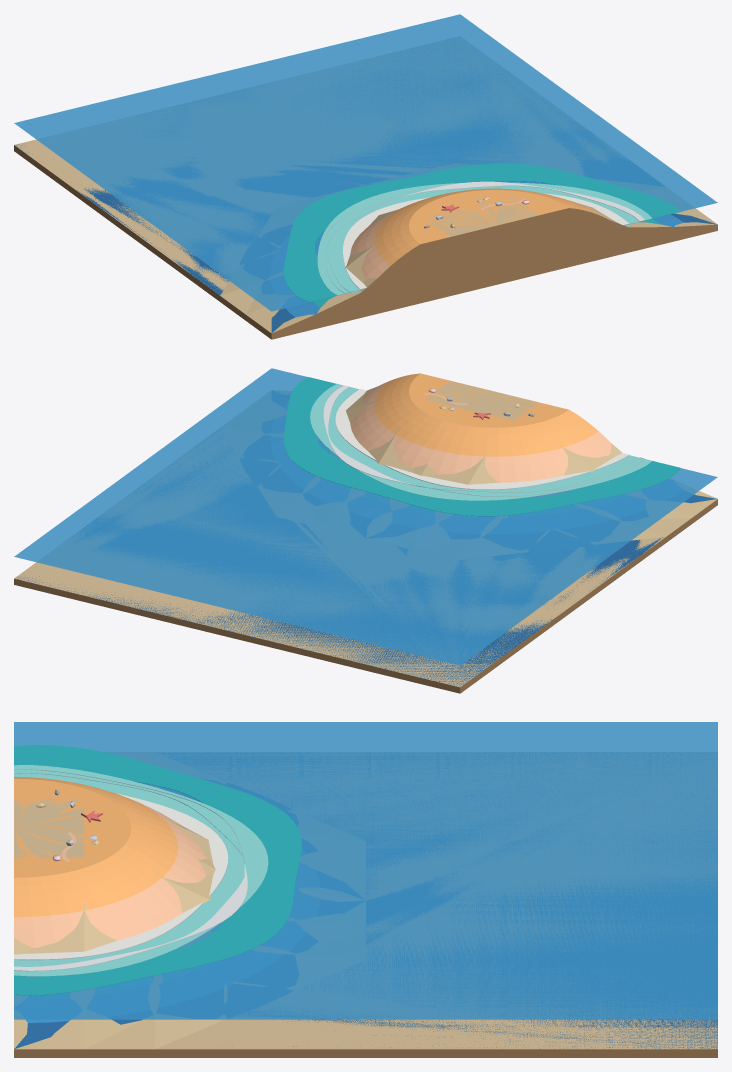
Rendered from costa_areia_ponta.glb.
3 renders of one model, top to bottom at view 1: azimuth 30°, elevation 25°; view 2: azimuth 150°, elevation 25°; view 3: azimuth 270°, elevation 25°, orthographic. The views are drawn at different scales.
Visible parts, largest first — view 1: costa_areia_ponta, colisao_praia; view 2: costa_areia_ponta, colisao_praia; view 3: costa_areia_ponta, colisao_praia.
Part boxes in pixels (<box>): costa_areia_ponta: <box>14,14,717,338</box>; colisao_praia: <box>14,139,717,339</box>; costa_areia_ponta: <box>14,368,717,693</box>; colisao_praia: <box>14,380,717,693</box>; costa_areia_ponta: <box>14,722,717,1057</box>; colisao_praia: <box>14,798,717,1057</box>.
Bounding box in the file's own units: 15 × 1.99 × 15.
Materials: 2 (1 with a texture image).
